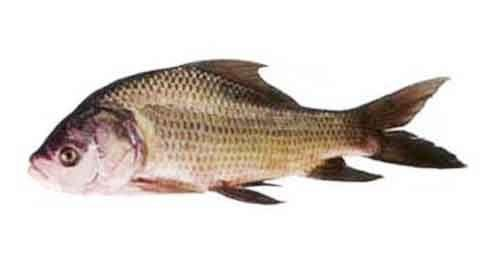Indian Carp: (31, 55, 468, 209)
